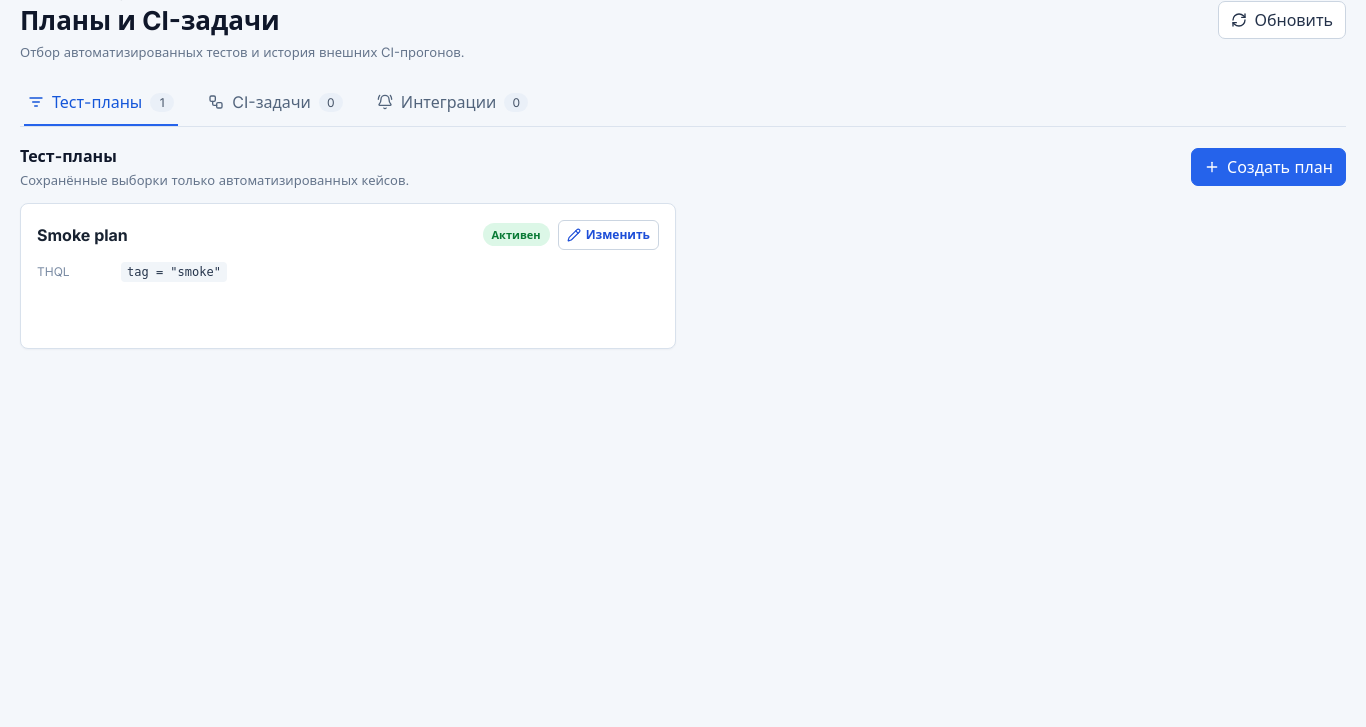
shows a save error in the plan form and enables retry
Step 1. Click the button with class "reference-primary-action" → (1269, 167), box [1191, 148, 1346, 186]
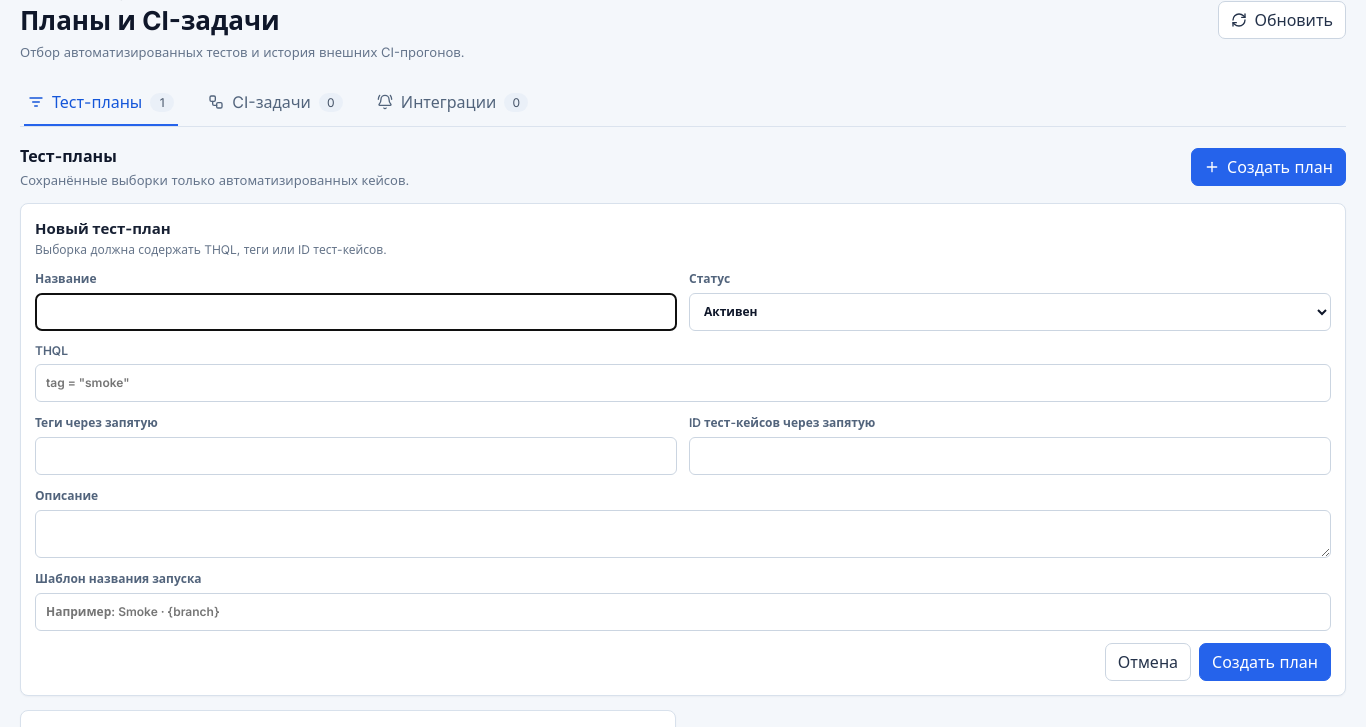
Now the form with class "automation-form" is shown
Step 2. Type "Broken plan" into the field named "name" → (356, 312), box [35, 293, 677, 331]
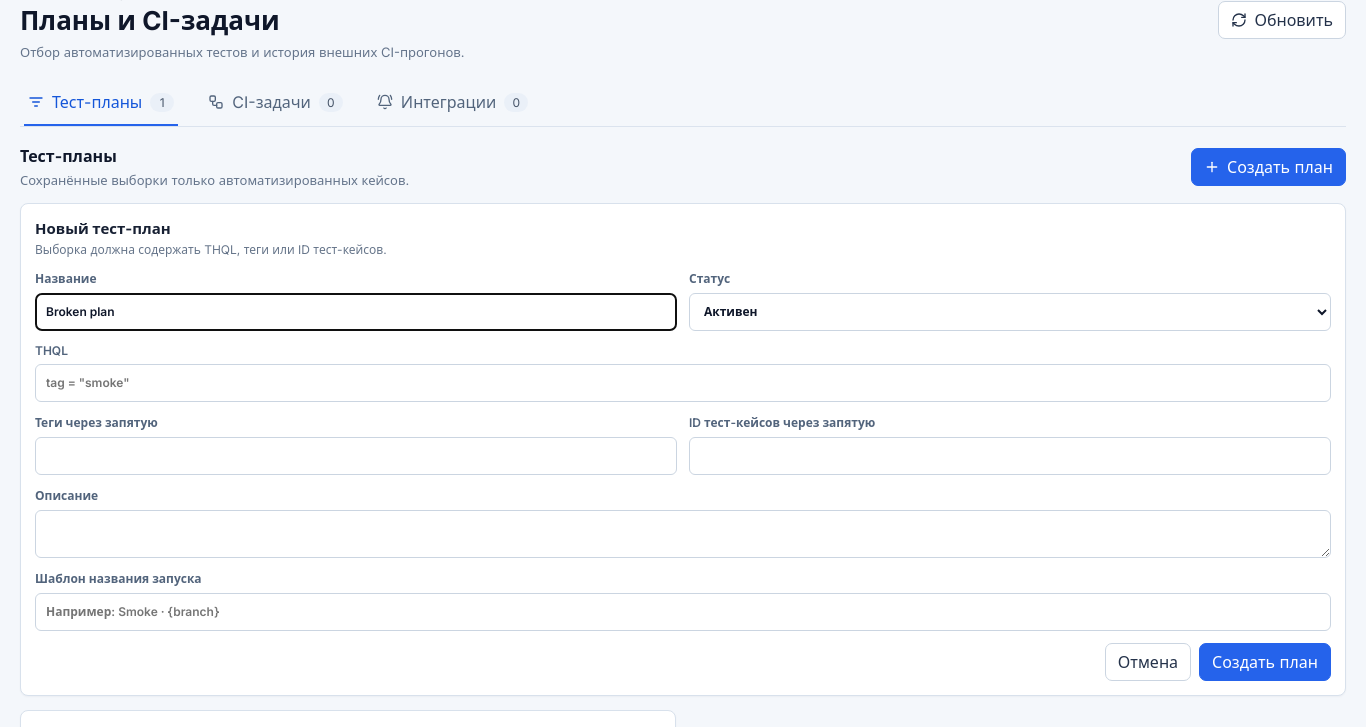
Step 3. Type "bad syntax" into the field named "thql" → (683, 383), box [35, 364, 1331, 402]
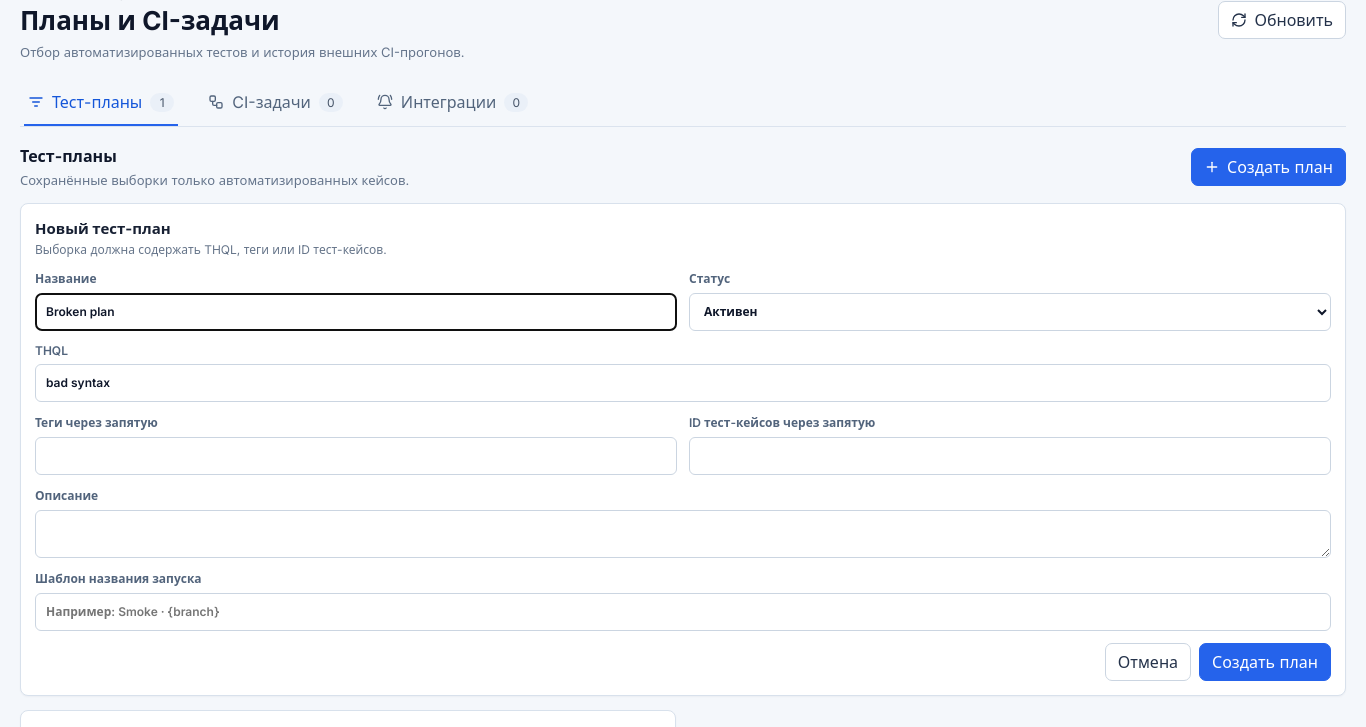
Step 4. Submit the form with class "automation-form"
(page scrolled)
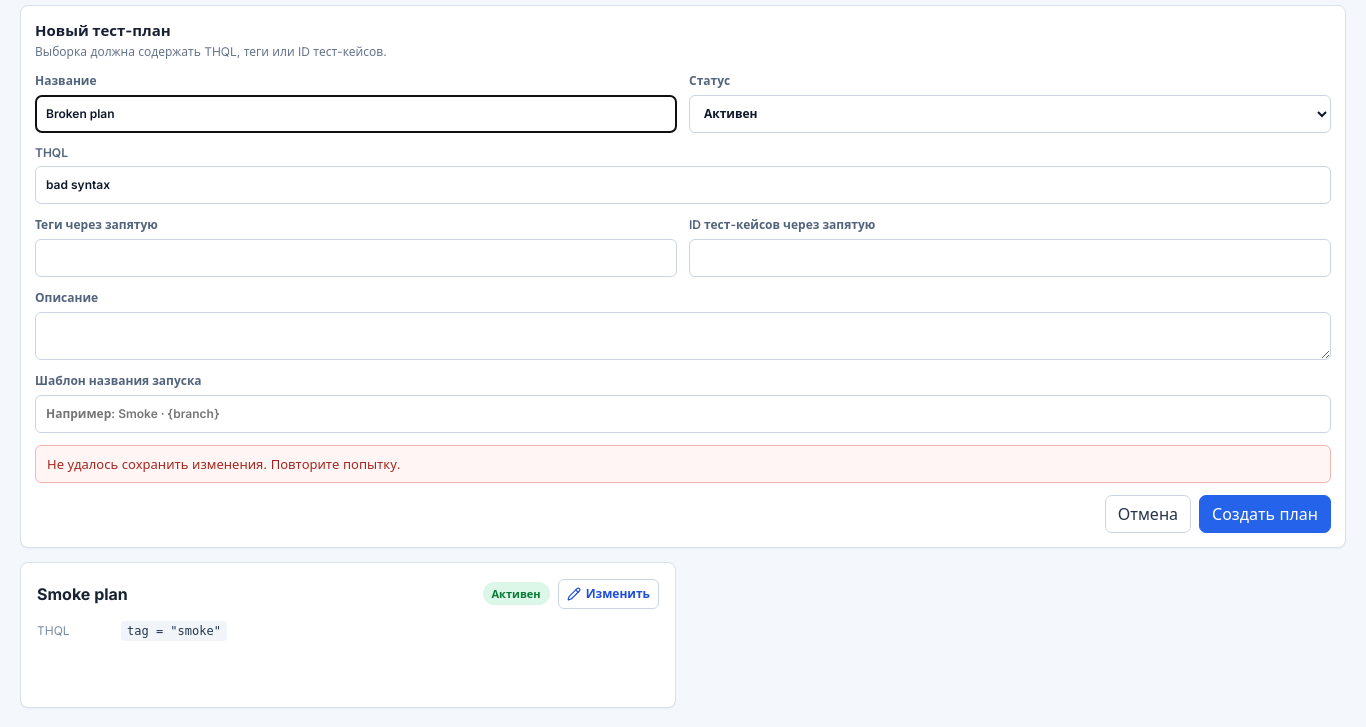
Now the submit button is enabled, box [1199, 495, 1331, 533]
Now the message "Не удалось сохранить изменения. Повторите попытку." is shown, box [35, 445, 1331, 483]
